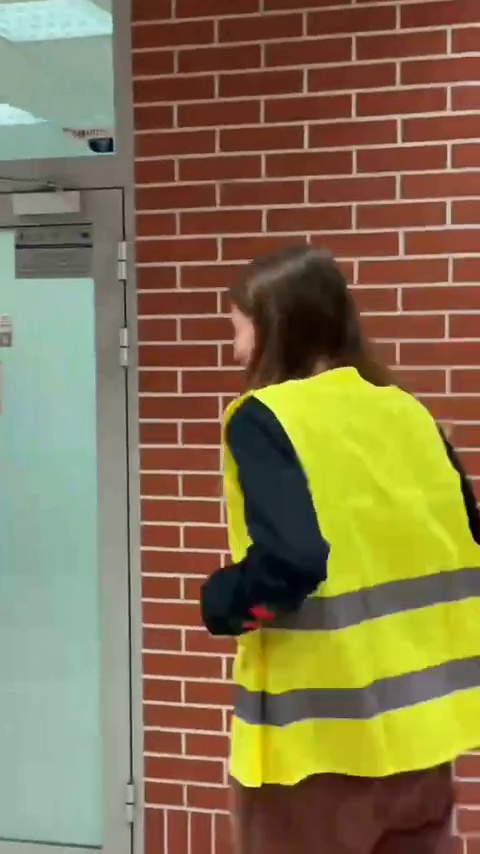vest: (191, 244, 472, 842)
